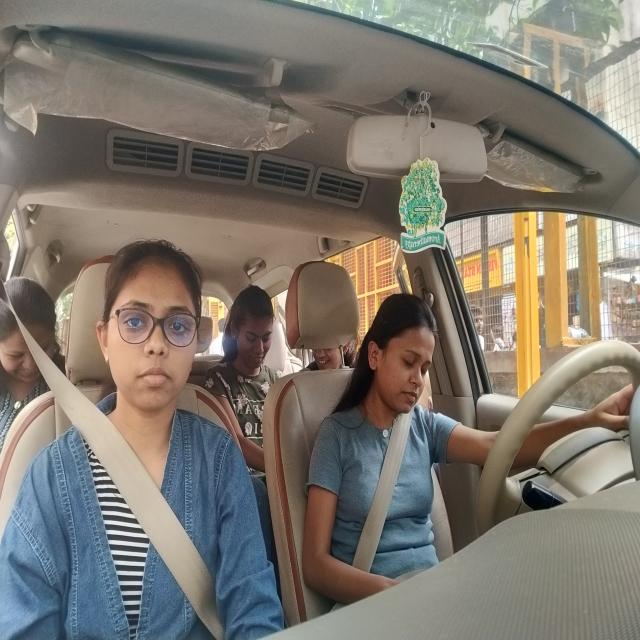drowsy: (366, 294, 439, 418)
person: (102, 238, 204, 404), (4, 268, 62, 391), (220, 284, 273, 371), (314, 342, 348, 369)
